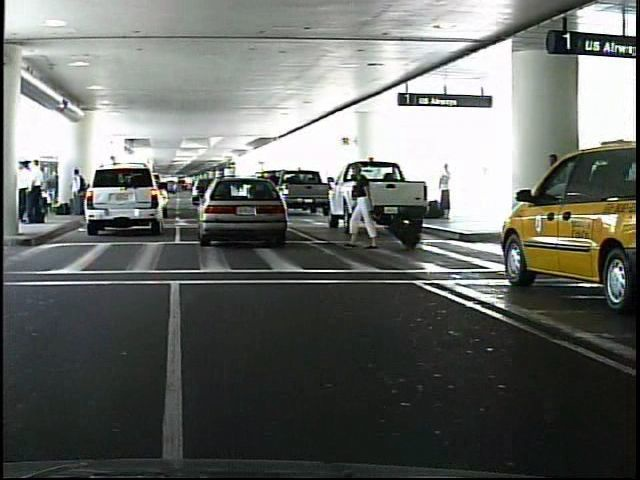person: (350, 161, 382, 253), (434, 160, 458, 220), (33, 159, 48, 227), (74, 165, 90, 221), (18, 160, 31, 222)
